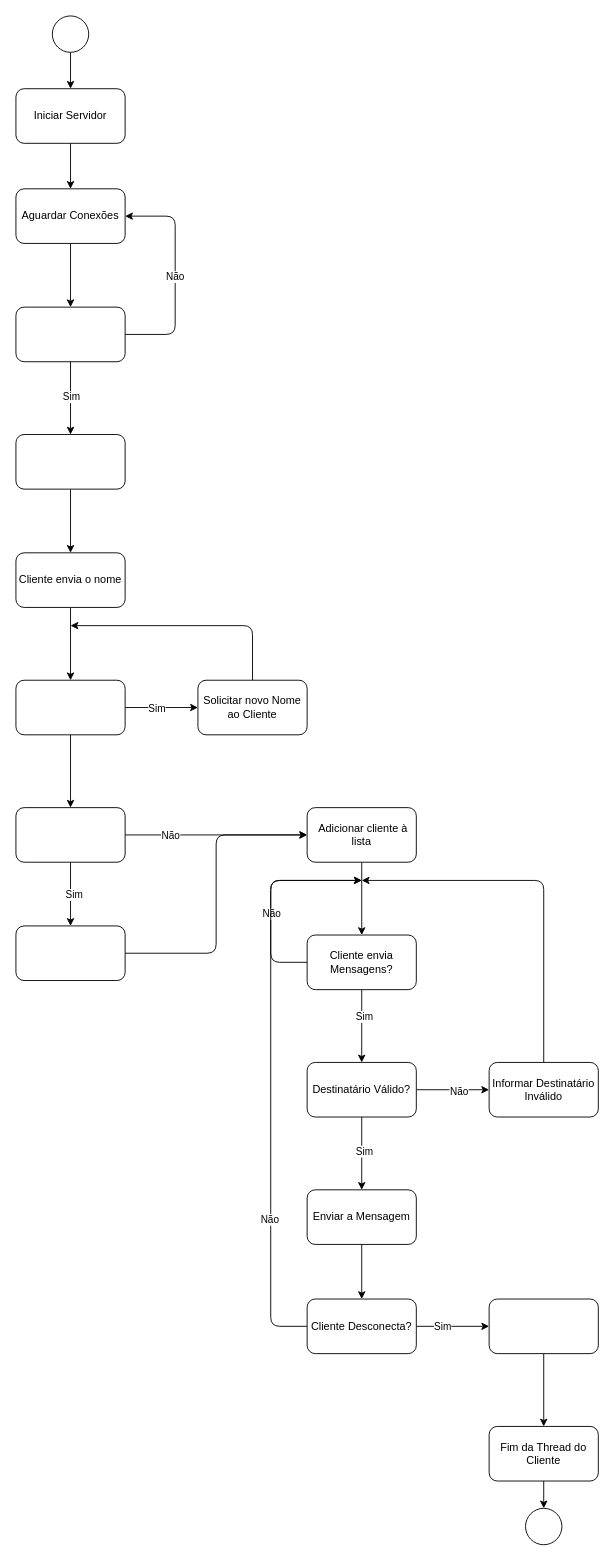
Some shapes in this 614 by 1561 pixel diagram are drawn without their labels. The centre of each missing label's shape, as x and y in pixels:
"Cliente se conecta?" belongs at pixel 70 334.
"Criar thread para cliente" belongs at pixel 70 461.
"Nome contém espaços?" belongs at pixel 70 834.
"Nome em uso?" belongs at pixel 70 707.
"Remover cliente da lista" belongs at pixel 543 1326.
"Substitui por _" belongs at pixel 70 953.
